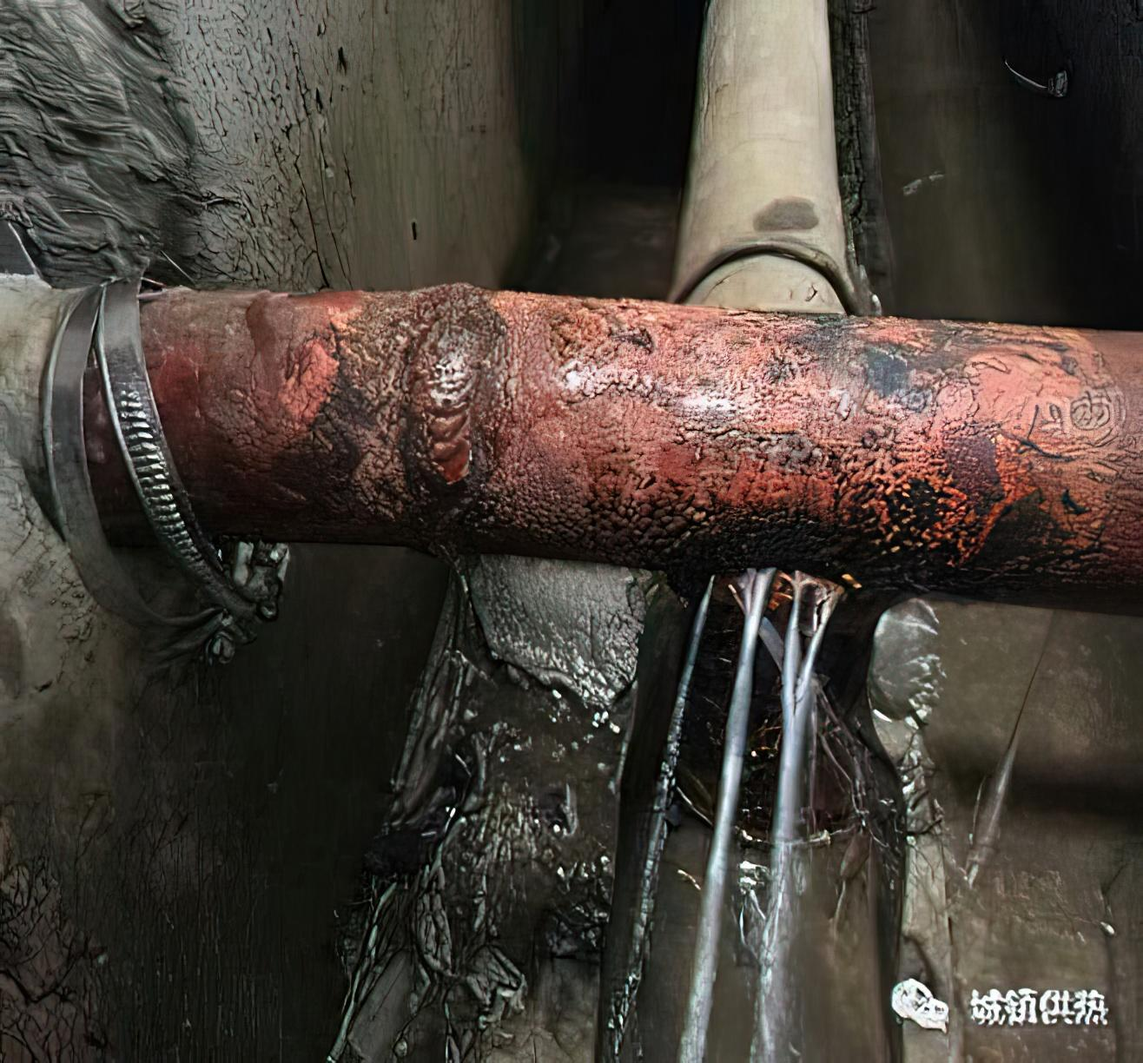pipe burst: (684, 560, 848, 1063)
